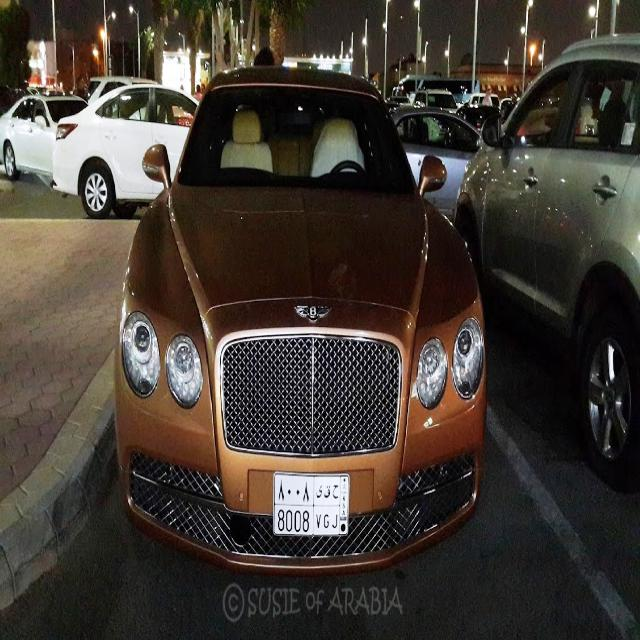license_plate: (272, 469, 352, 539)
